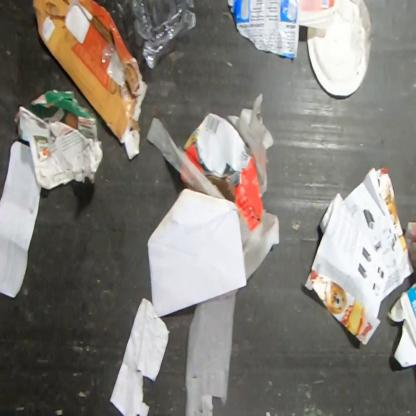cardboard: (32, 0, 148, 160), (182, 112, 264, 234), (13, 88, 104, 191), (306, 0, 374, 98), (386, 280, 415, 369), (180, 172, 188, 183)
rigid_plastic: (103, 0, 197, 71)
